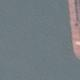ship: (63, 0, 80, 63)
